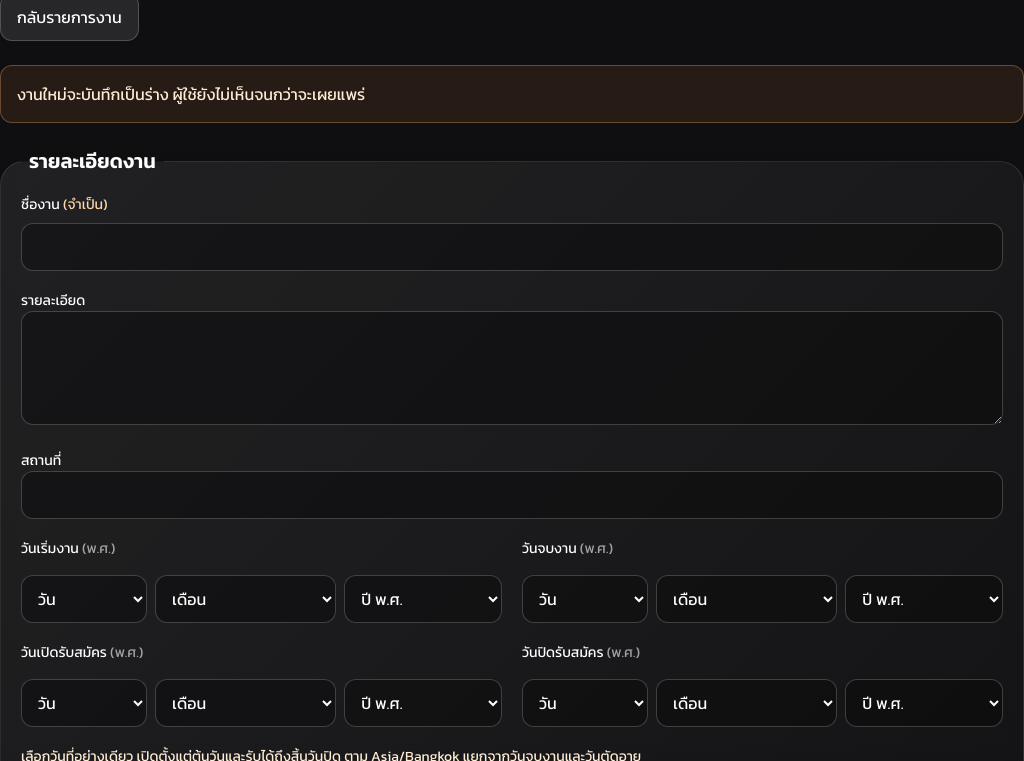
explains duplicate catalogs in Thai and preserves the entered classes
Step 1. Type "งานทดสอบรุ่นซ้ำ" into the field labelled "ชื่องาน (จำเป็น)" → (512,247), box [21,223,1003,271]
(page scrolled)
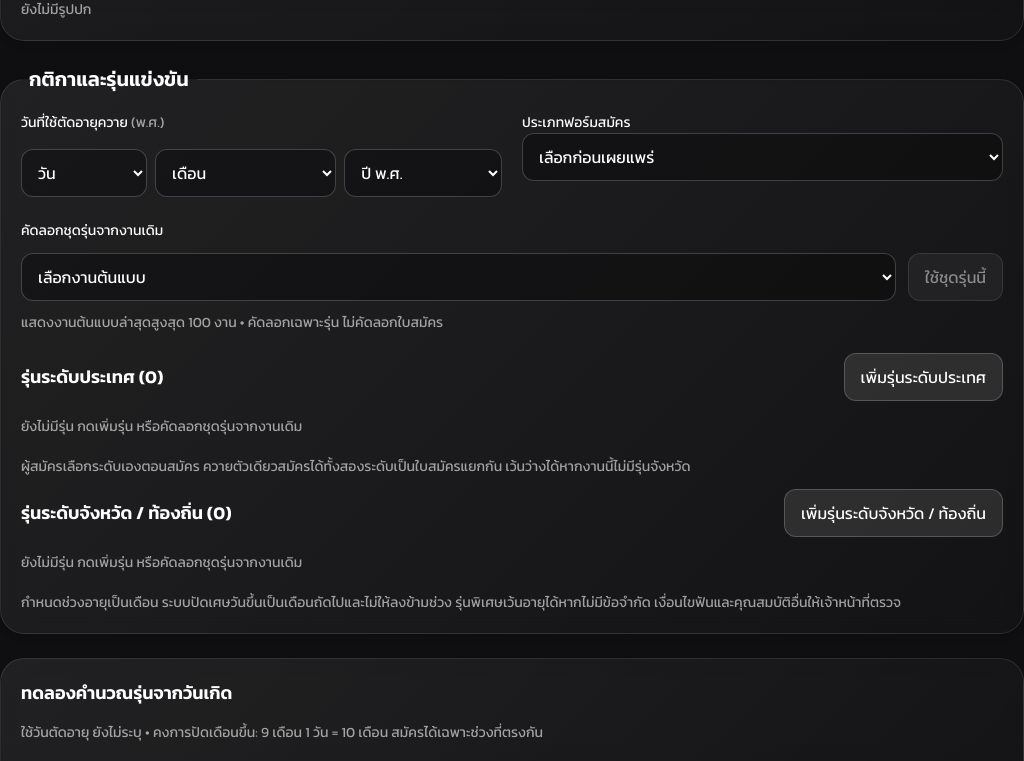
Step 2. Click the button "เพิ่มรุ่นระดับประเทศ" → (923,377), box [844,353,1003,401]
(page scrolled)
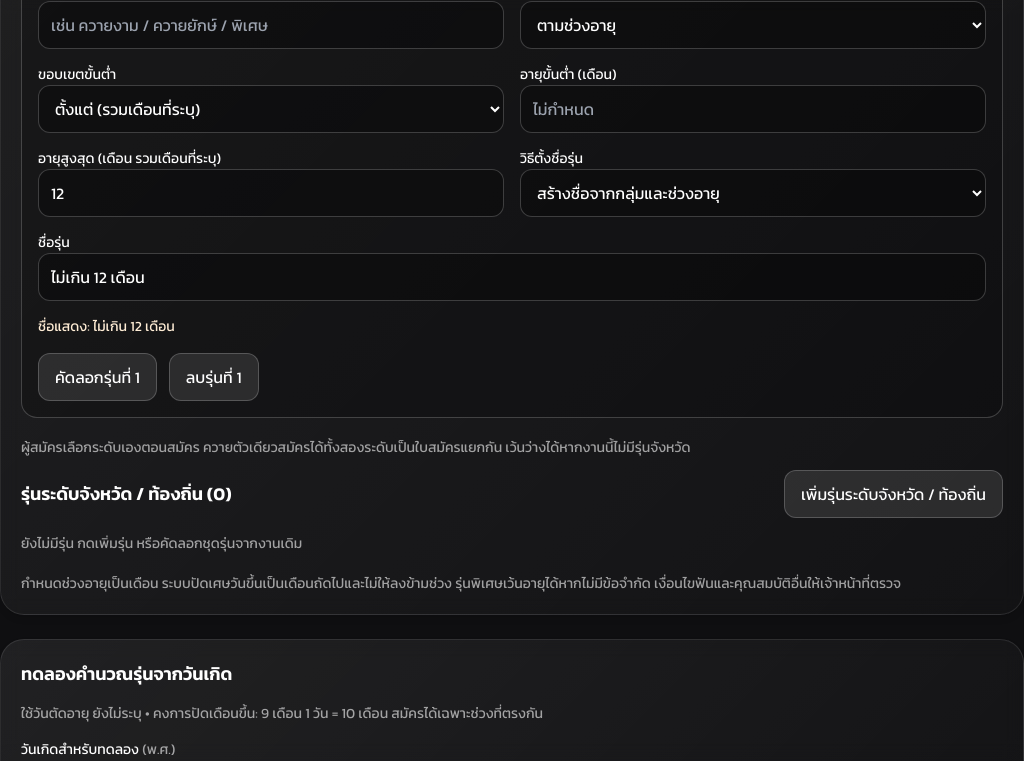
Step 3. Click the button "คัดลอกรุ่นที่ 1" → (97,377), box [38,353,157,401]
(page scrolled)
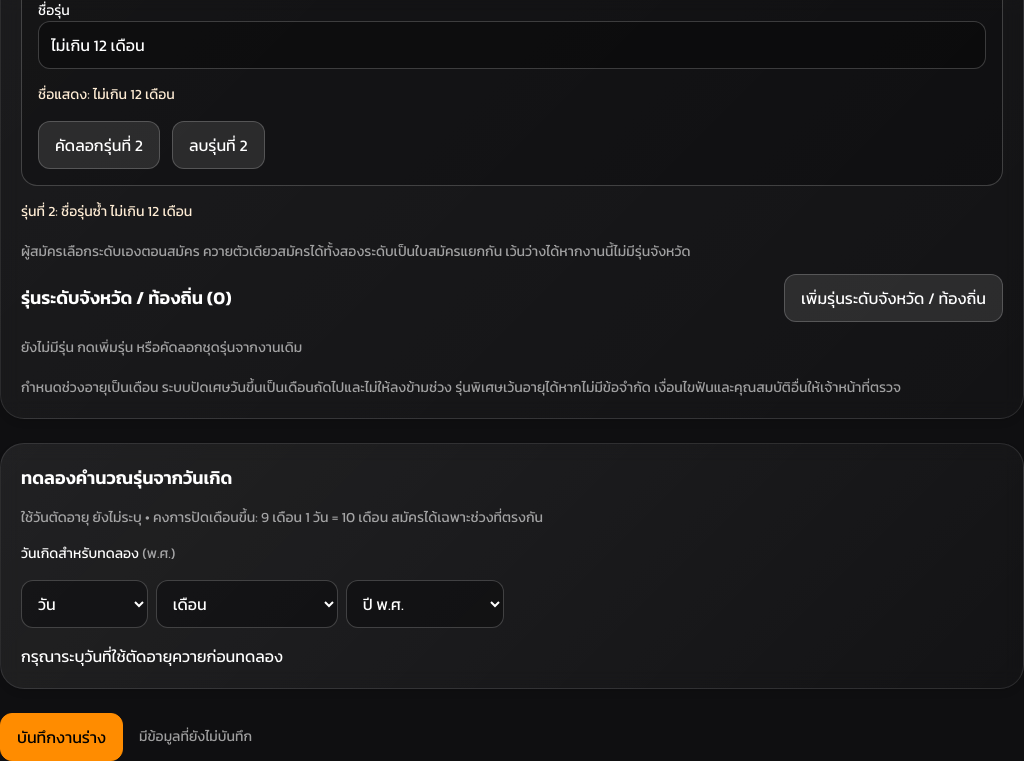
Step 4. Click the button "บันทึกงานร่าง" → (62,737), box [0,713,123,760]
(page scrolled)
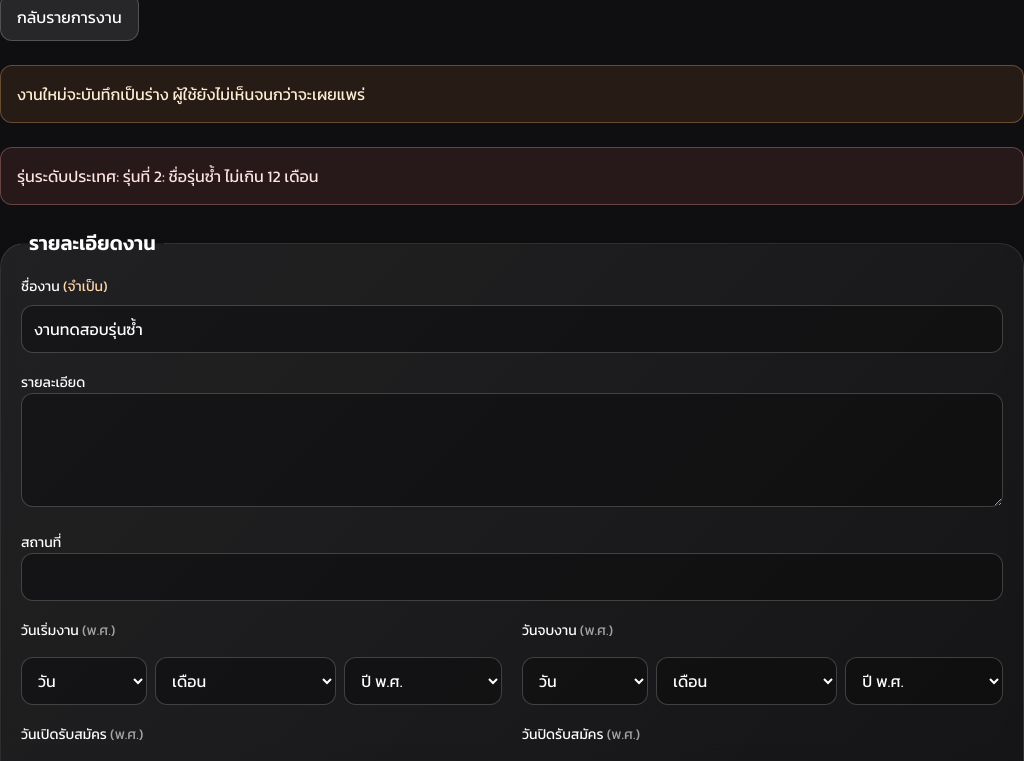
Check: the message "รุ่นระดับประเทศ: รุ่นที่ 2: ชื่อรุ่นซ้ำ ไม่เกิน 12 เดือน" does not show "catalogs.national", box [0,147,1023,205]
Check: the message "รุ่นระดับประเทศ: รุ่นที่ 2: ชื่อรุ่นซ้ำ ไม่เกิน 12 เดือน" is shown, box [0,147,1023,205]
